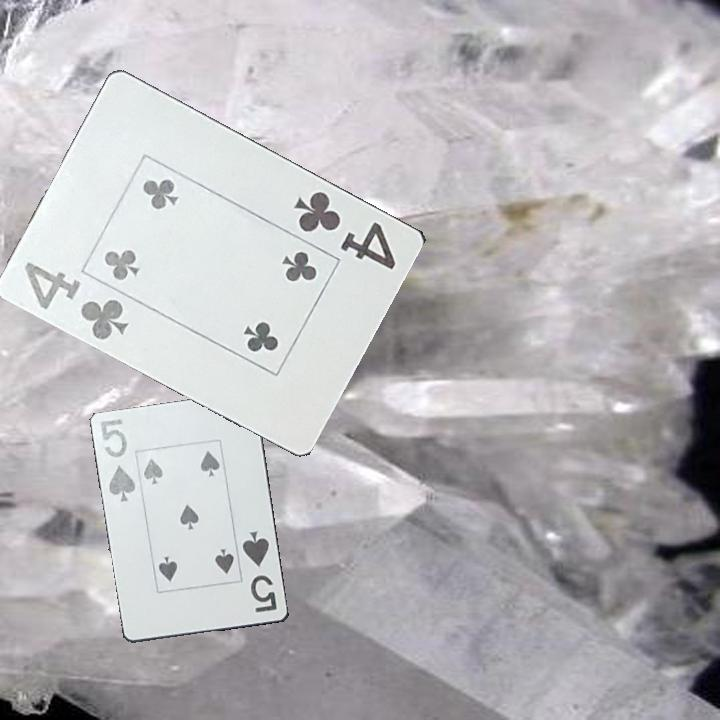4c: (21, 258, 133, 343), (290, 187, 400, 272)
5s: (97, 416, 139, 505), (239, 528, 280, 616)
